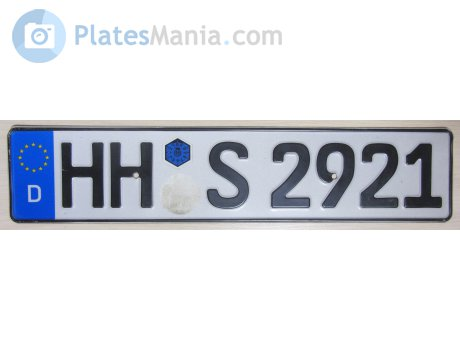License Plates: (52, 126, 449, 214)
